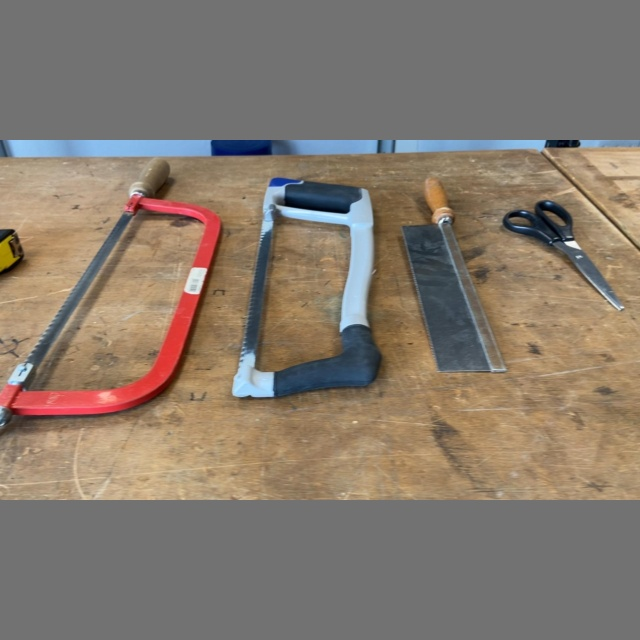scissor: (500, 195, 628, 313)
